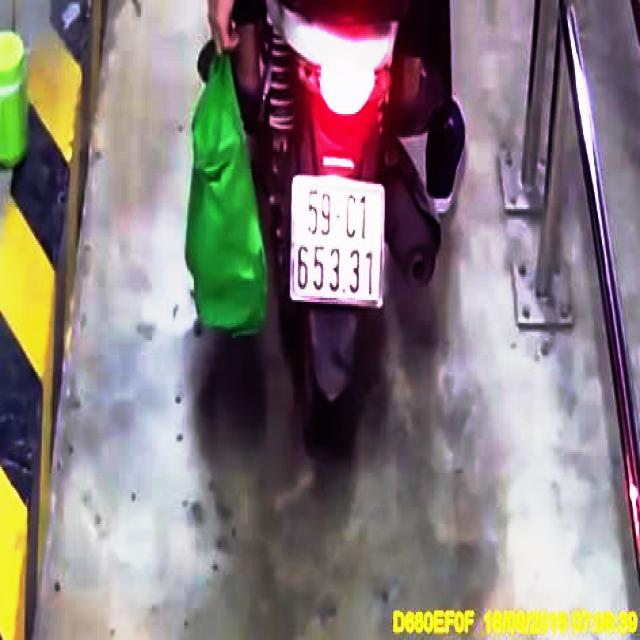license_plate: (293, 177, 385, 307)
